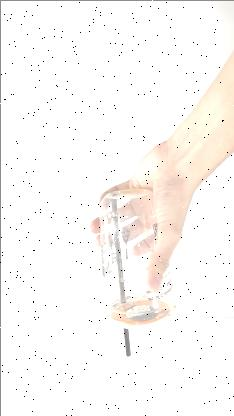Others: (94, 184, 182, 338)
